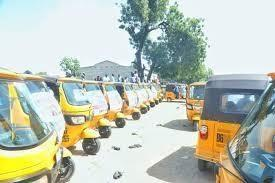keke: (196, 74, 272, 183), (46, 72, 106, 156), (184, 78, 207, 136), (164, 82, 186, 104)
